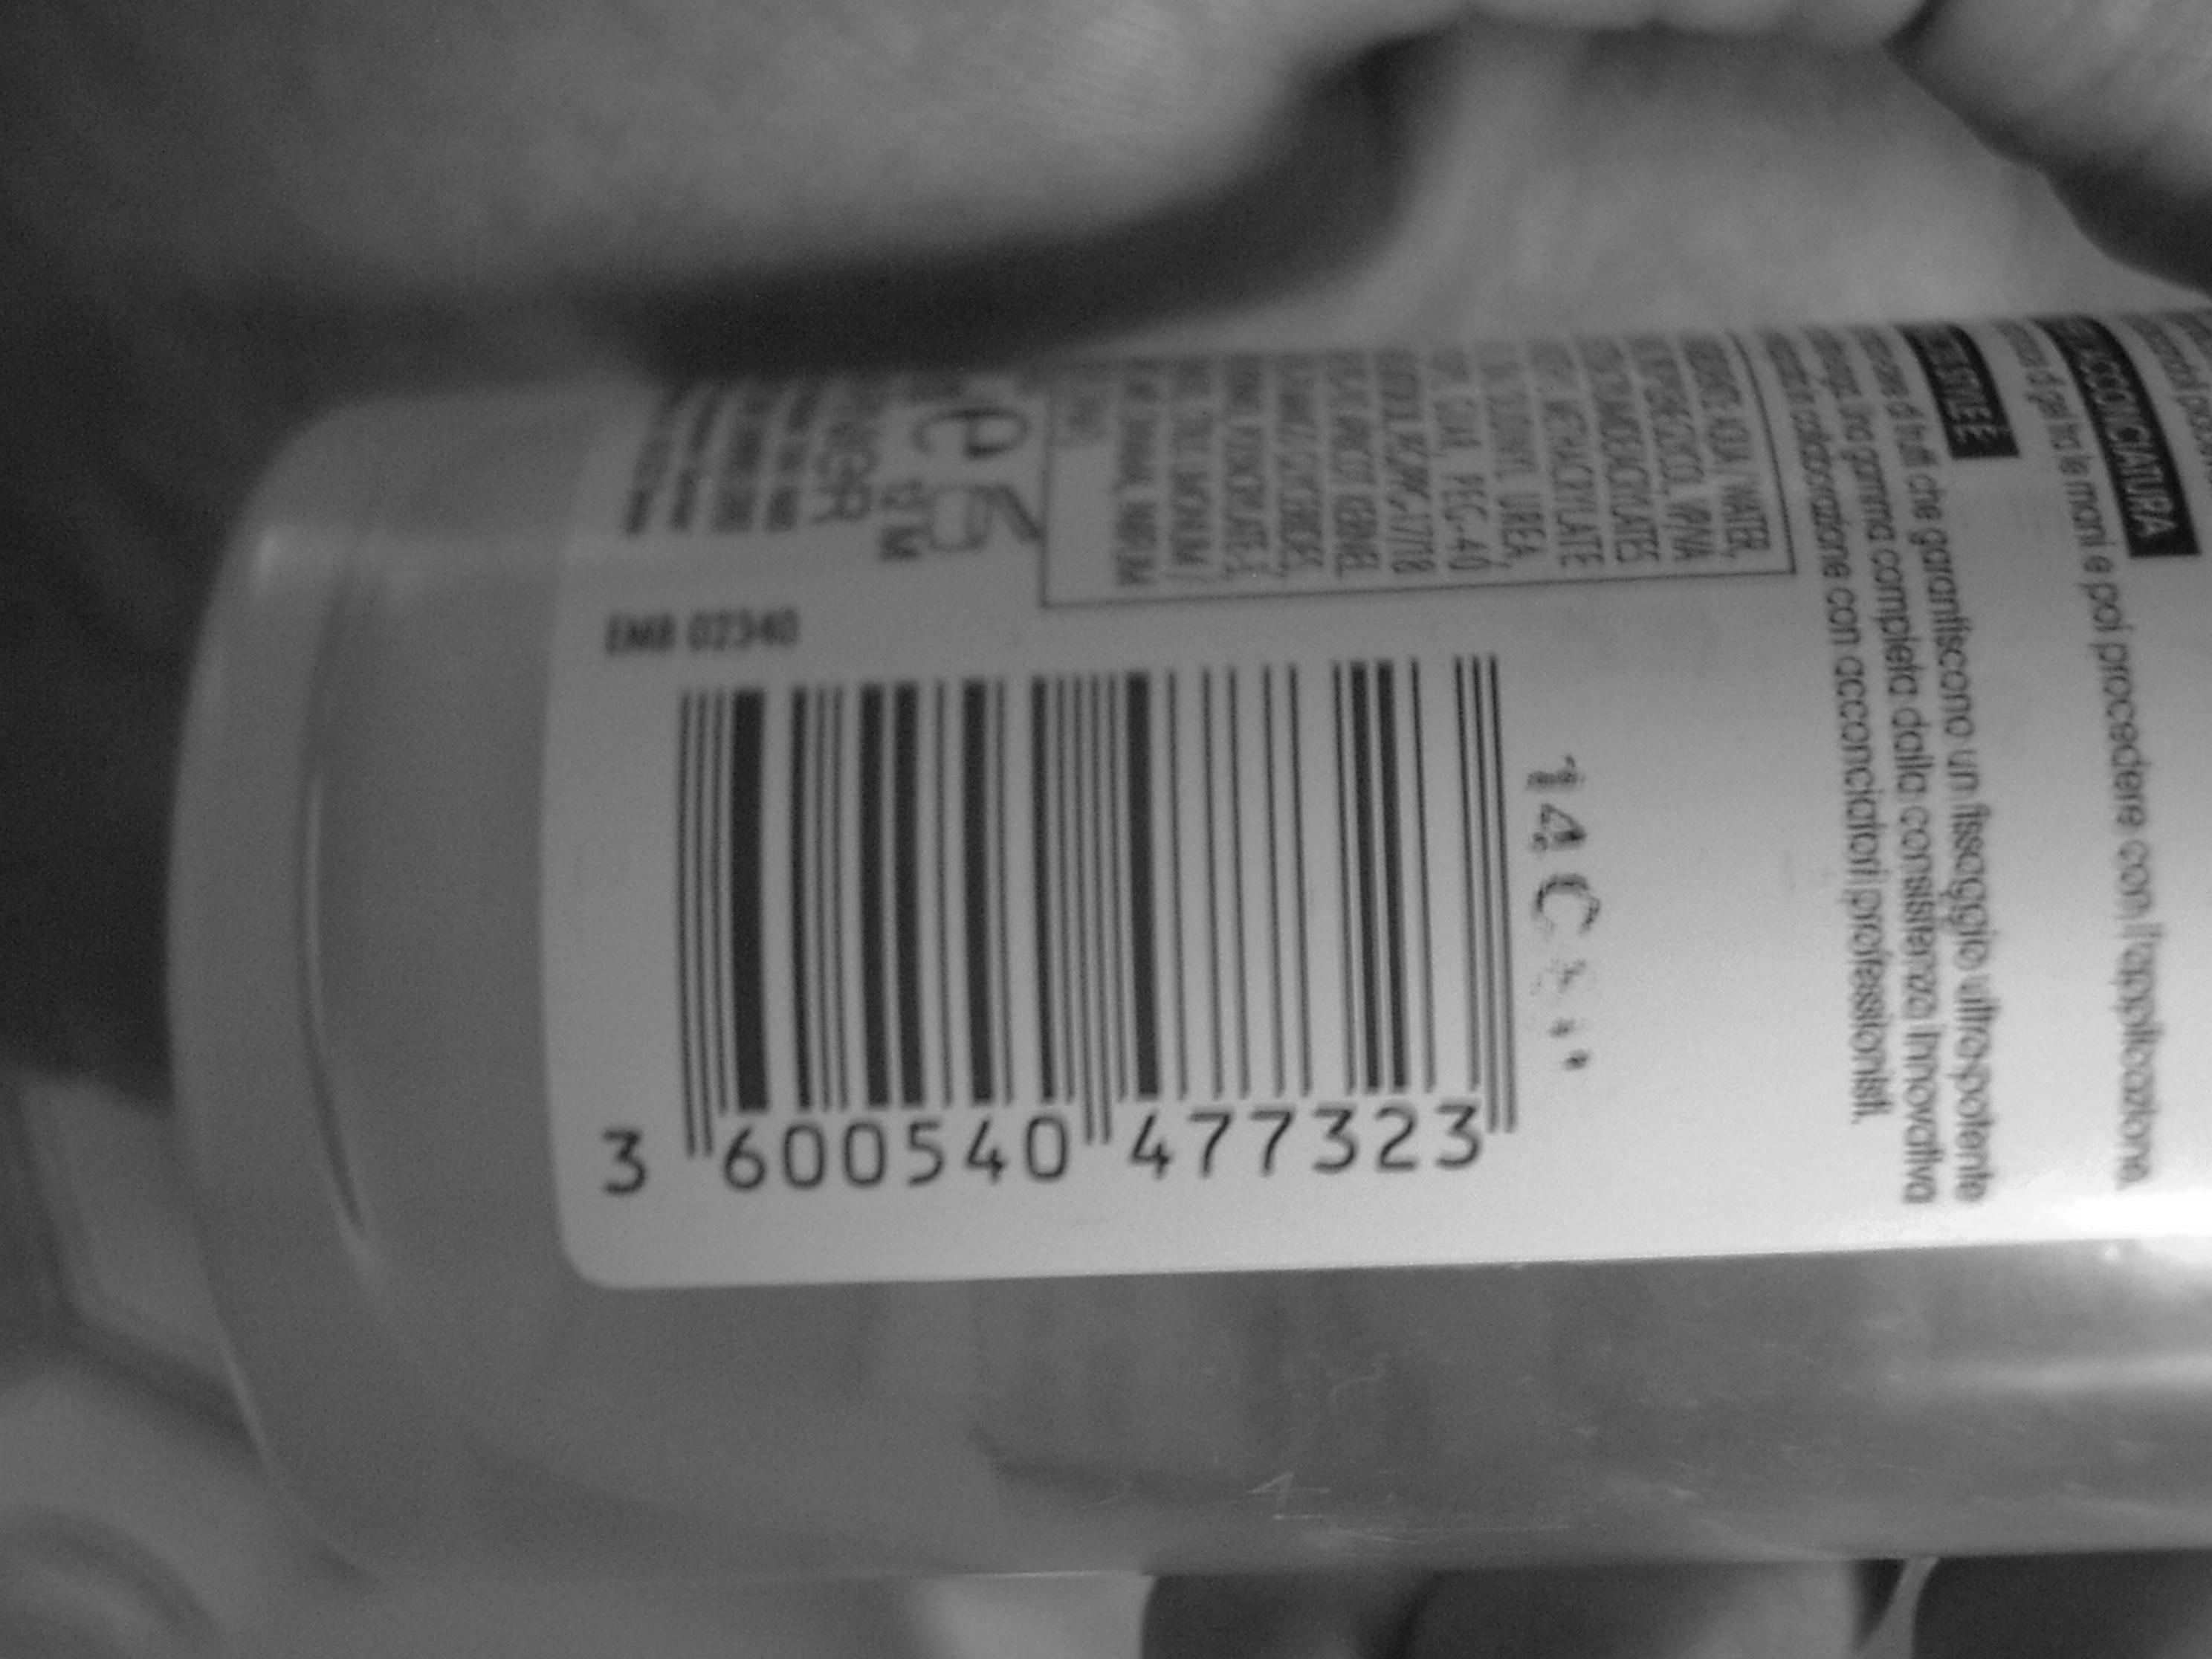Barcode: (659, 653, 1536, 1141)
